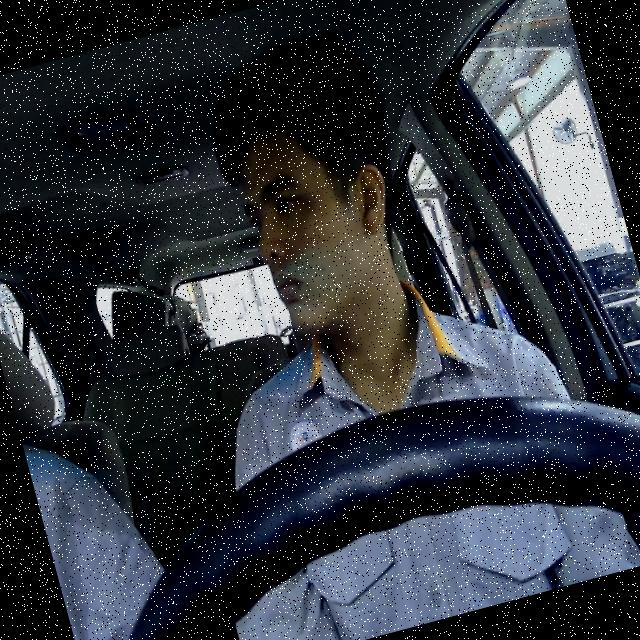seeing_left: (219, 94, 420, 346)
